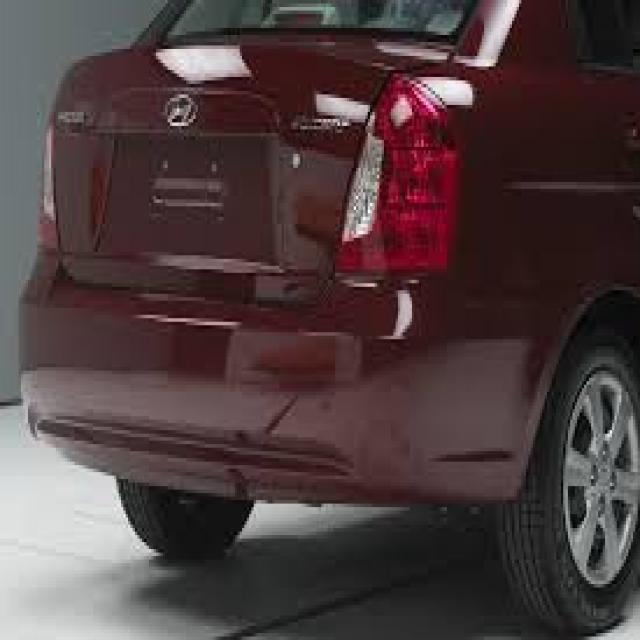minor: (295, 245, 444, 362)
